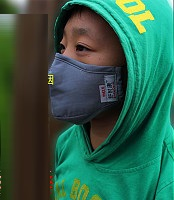face_mask: (47, 1, 128, 119)
